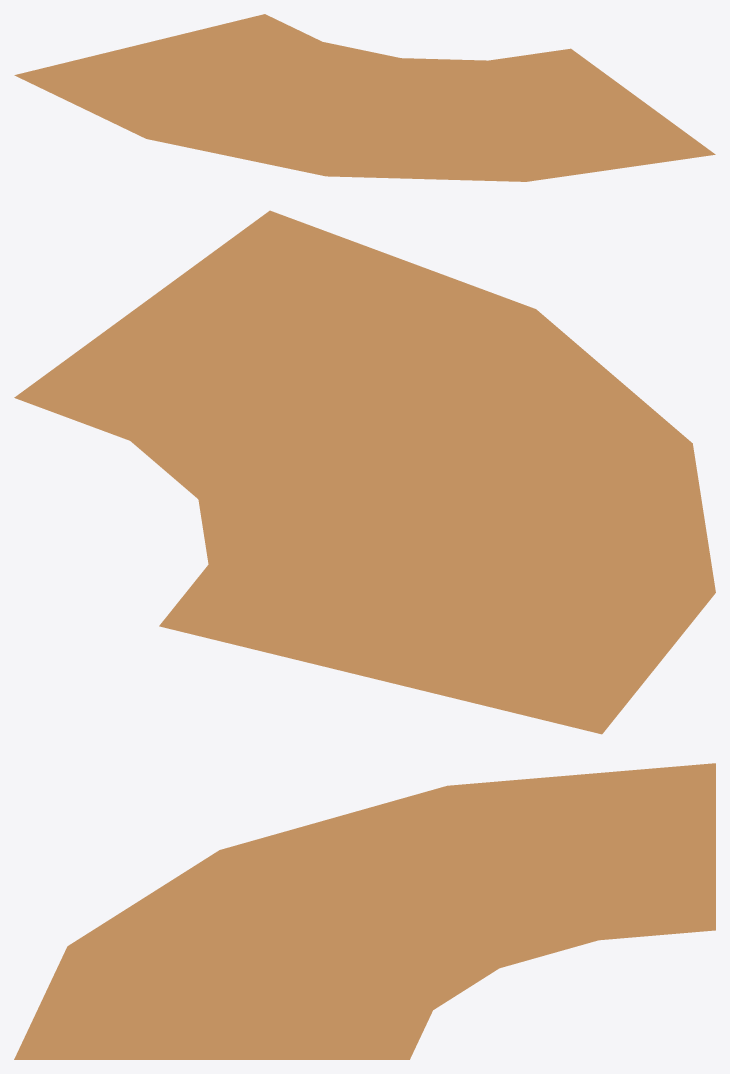
Rendered from Road 11.fbx.
3 renders of one model, top to bottom at view 1: azimuth 30°, elevation 25°; view 2: azimuth 150°, elevation 25°; view 3: azimuth 270°, elevation 25°, orthographic. The views are drawn at different scales.
Parts seen in each view (by area): view 1: Road_11; view 2: Road_11; view 3: Road_11.
Boxes of the visible parts, x1,y1,x2,y2 form: Road_11: (14, 14, 715, 181); Road_11: (14, 210, 715, 734); Road_11: (14, 763, 715, 1059).
Size of the model in its own units: 1.77 by 7.08e-16 by 1.77.
